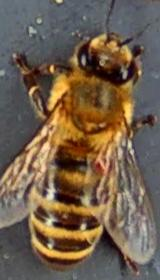varroa_mite: (86, 150, 115, 180)
